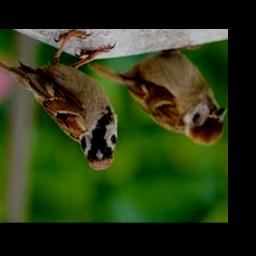Sparrow: (0, 30, 117, 170), (89, 45, 226, 145)
